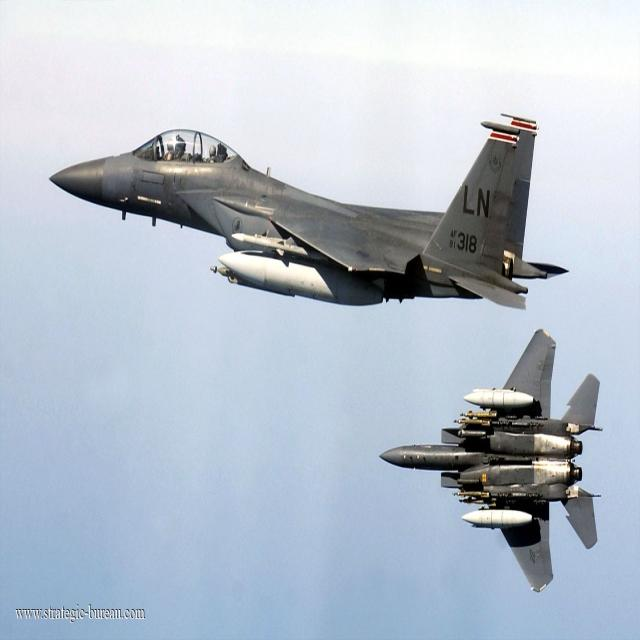F15: (31, 54, 626, 355), (357, 313, 640, 612)
